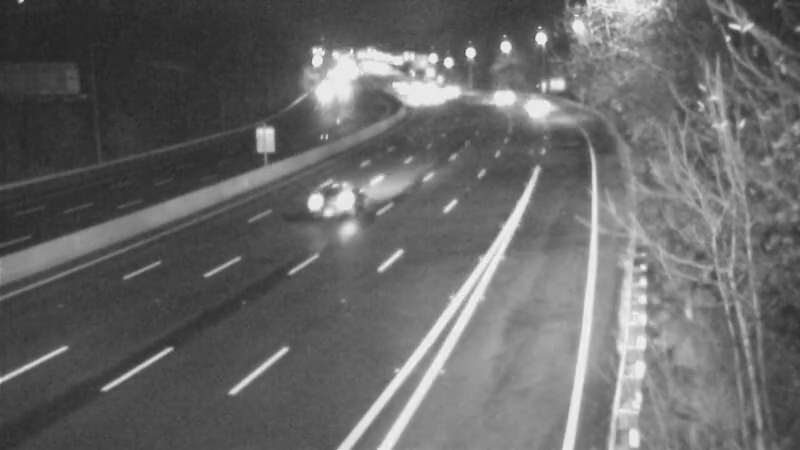vehicle: (290, 163, 370, 243), (471, 66, 521, 116), (509, 83, 559, 133)
